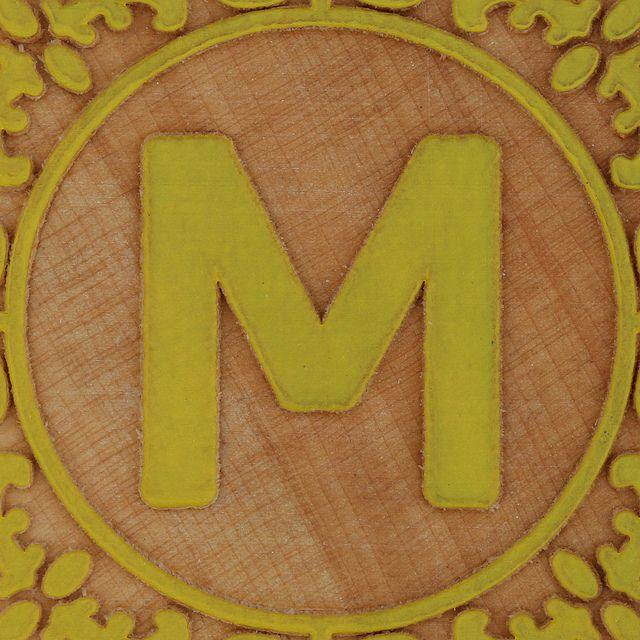M: (121, 115, 514, 528)
